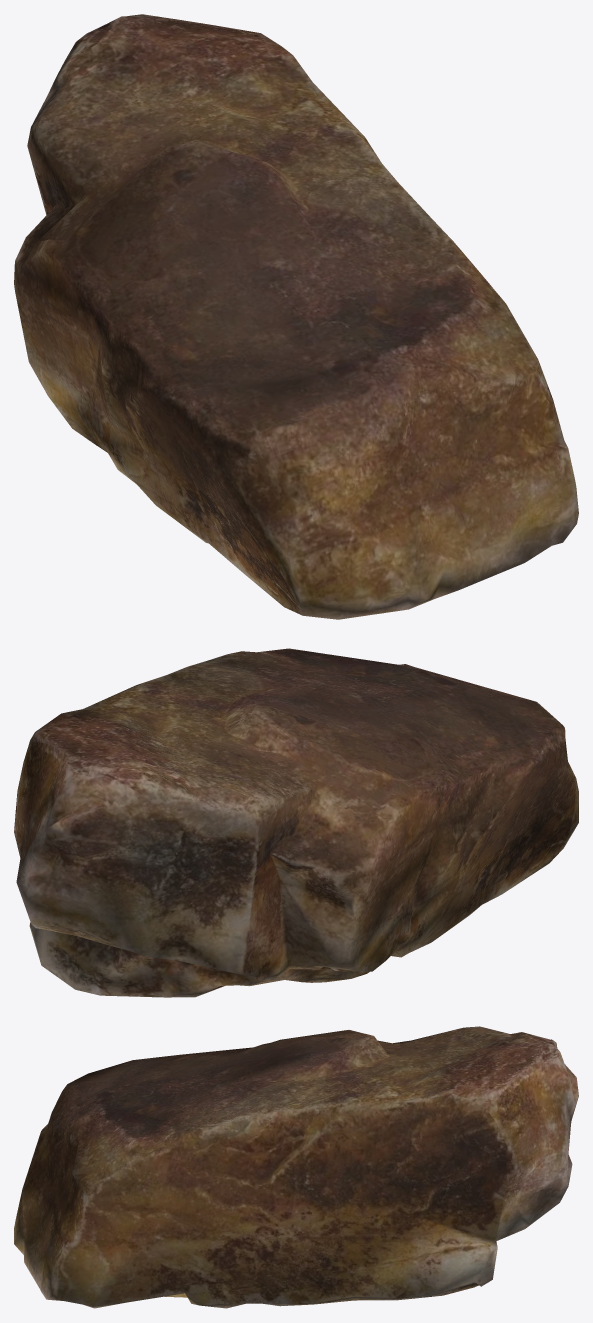
File: rock_07.glb
3 renders of one model, top to bottom at view 1: azimuth 30°, elevation 25°; view 2: azimuth 150°, elevation 25°; view 3: azimuth 270°, elevation 25°, orthographic. The views are drawn at different scales.
Visible parts, largest first — view 1: rock_07_LOD0; view 2: rock_07_LOD0; view 3: rock_07_LOD0.
Boxes of the visible parts, x1=… form: rock_07_LOD0: x1=14, y1=14, x2=578, y2=619; rock_07_LOD0: x1=14, y1=648, x2=578, y2=997; rock_07_LOD0: x1=14, y1=1026, x2=578, y2=1308.
Bounding box in the file's own units: 0.1676 × 0.1434 × 0.3194.
Materials: 1 (1 with a texture image).
